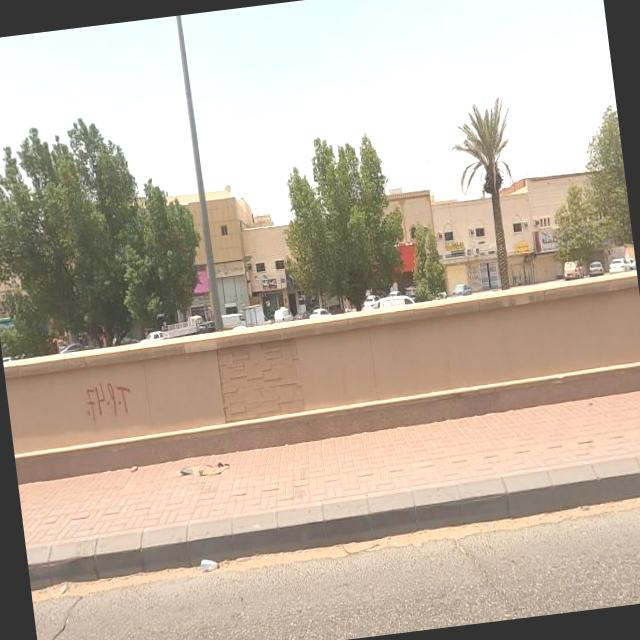debris: (167, 511, 252, 619)
